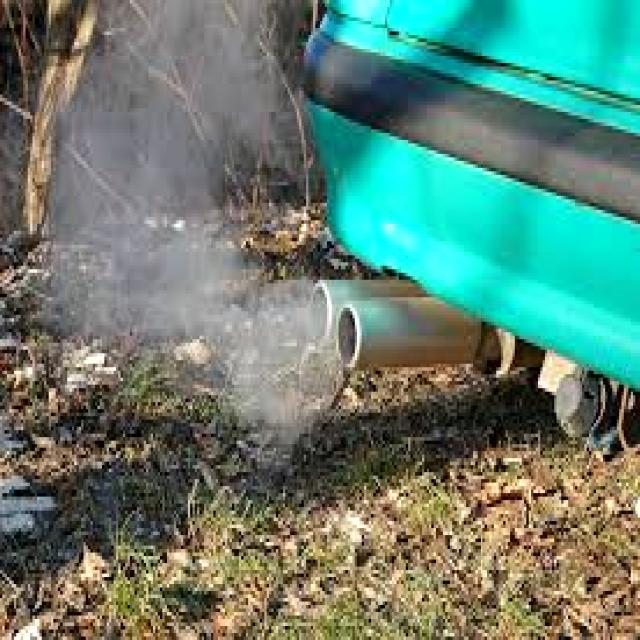Smoke: (66, 6, 366, 411)
